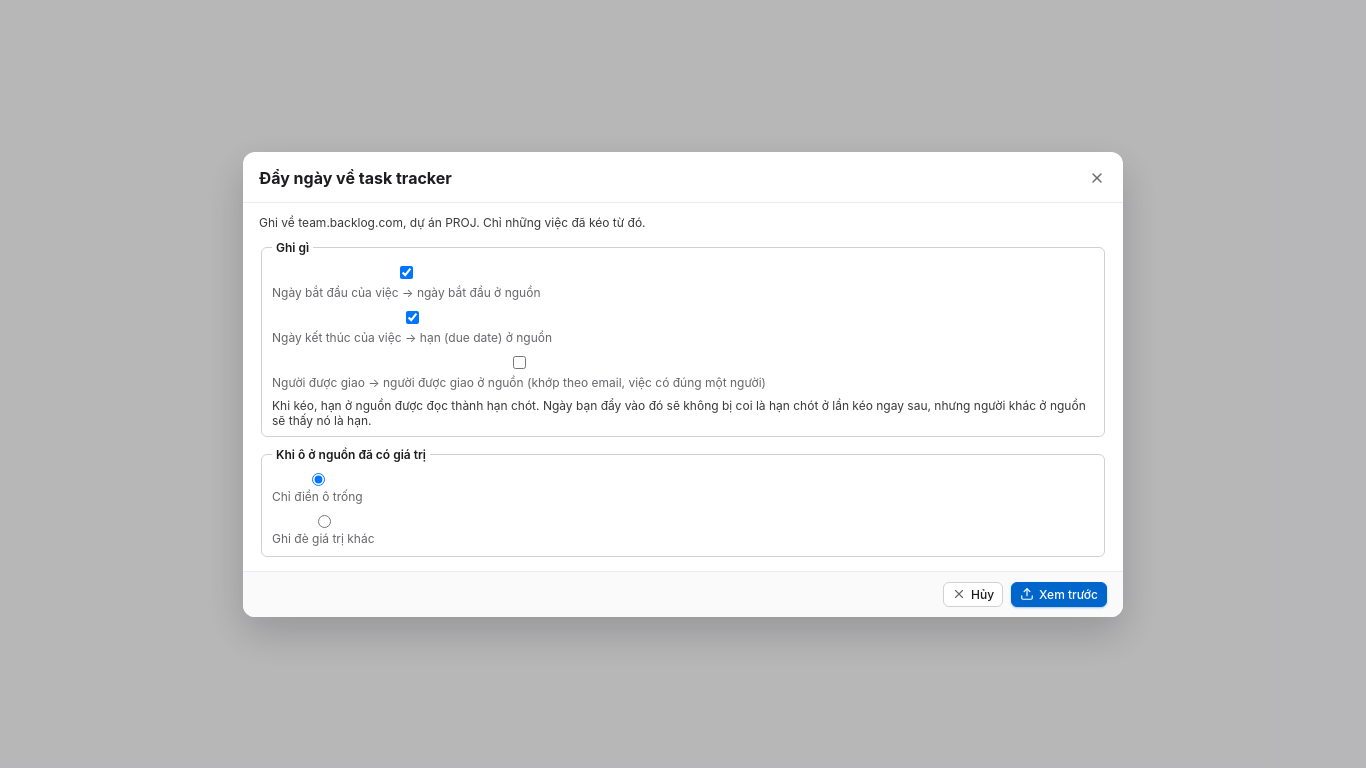
Test: TrackerPushDialog › warns about people the source does not know
What coordinates should you click on to do the following:
click the button "Xem trước"
I would click on:
 (1059, 594)
Its box is top-left (1011, 582), bottom-right (1107, 606).
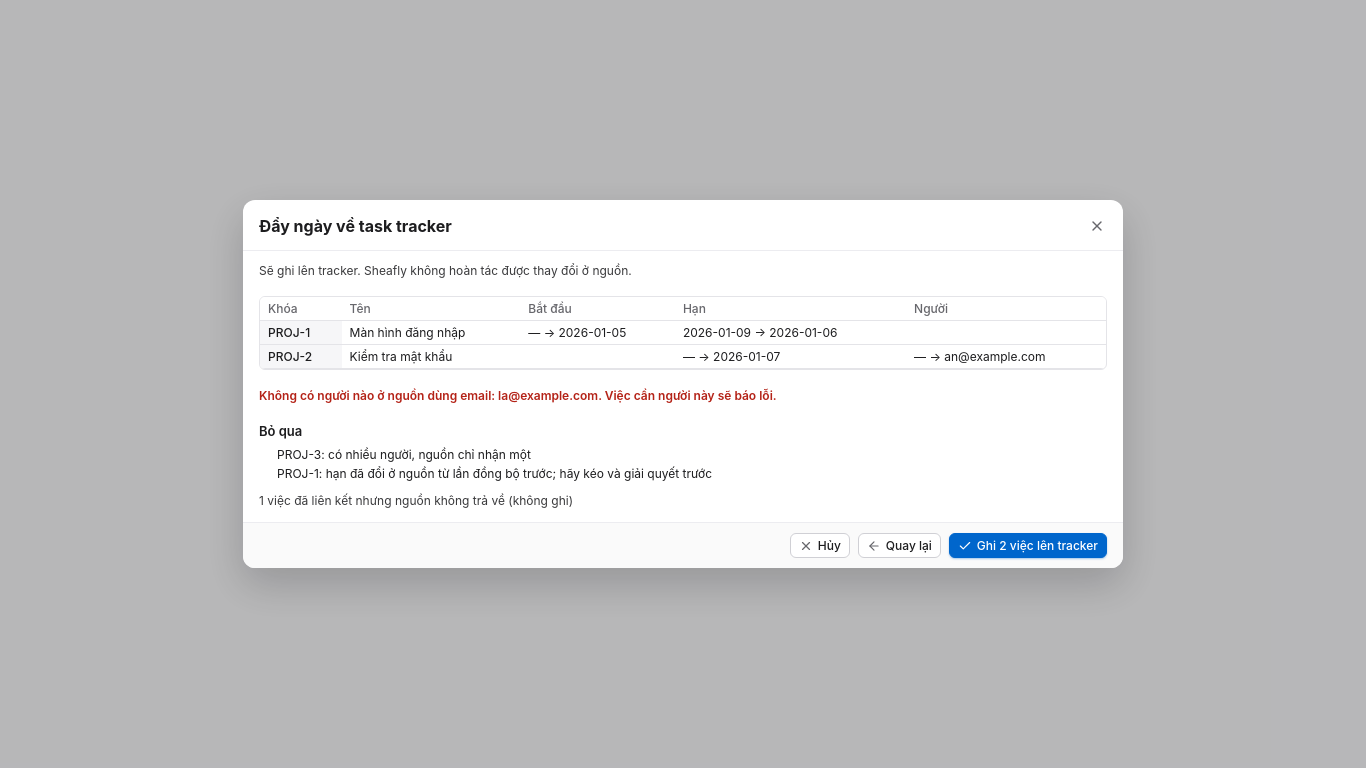
Expected: the table named "Việc sẽ ghi" is shown, top-left (260, 297), bottom-right (1106, 369)
Expected: the message shows "la@example.com", top-left (259, 388), bottom-right (777, 403)
